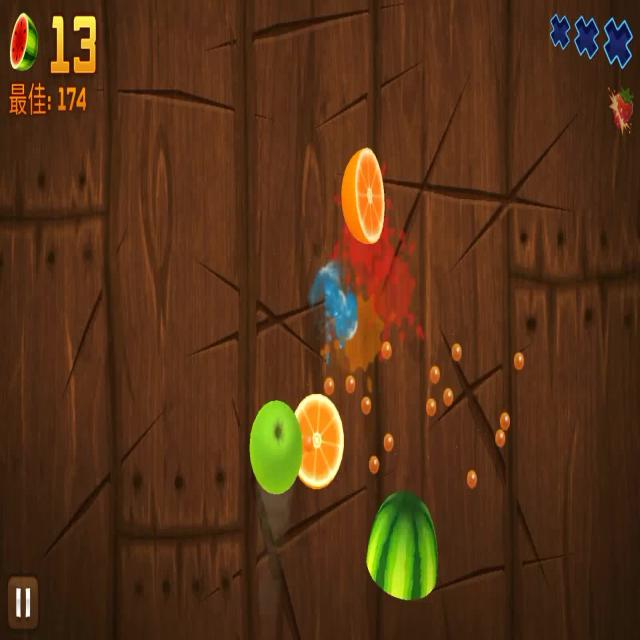fruit: (368, 487, 439, 601), (245, 396, 301, 494), (343, 146, 385, 248), (302, 393, 343, 497)
